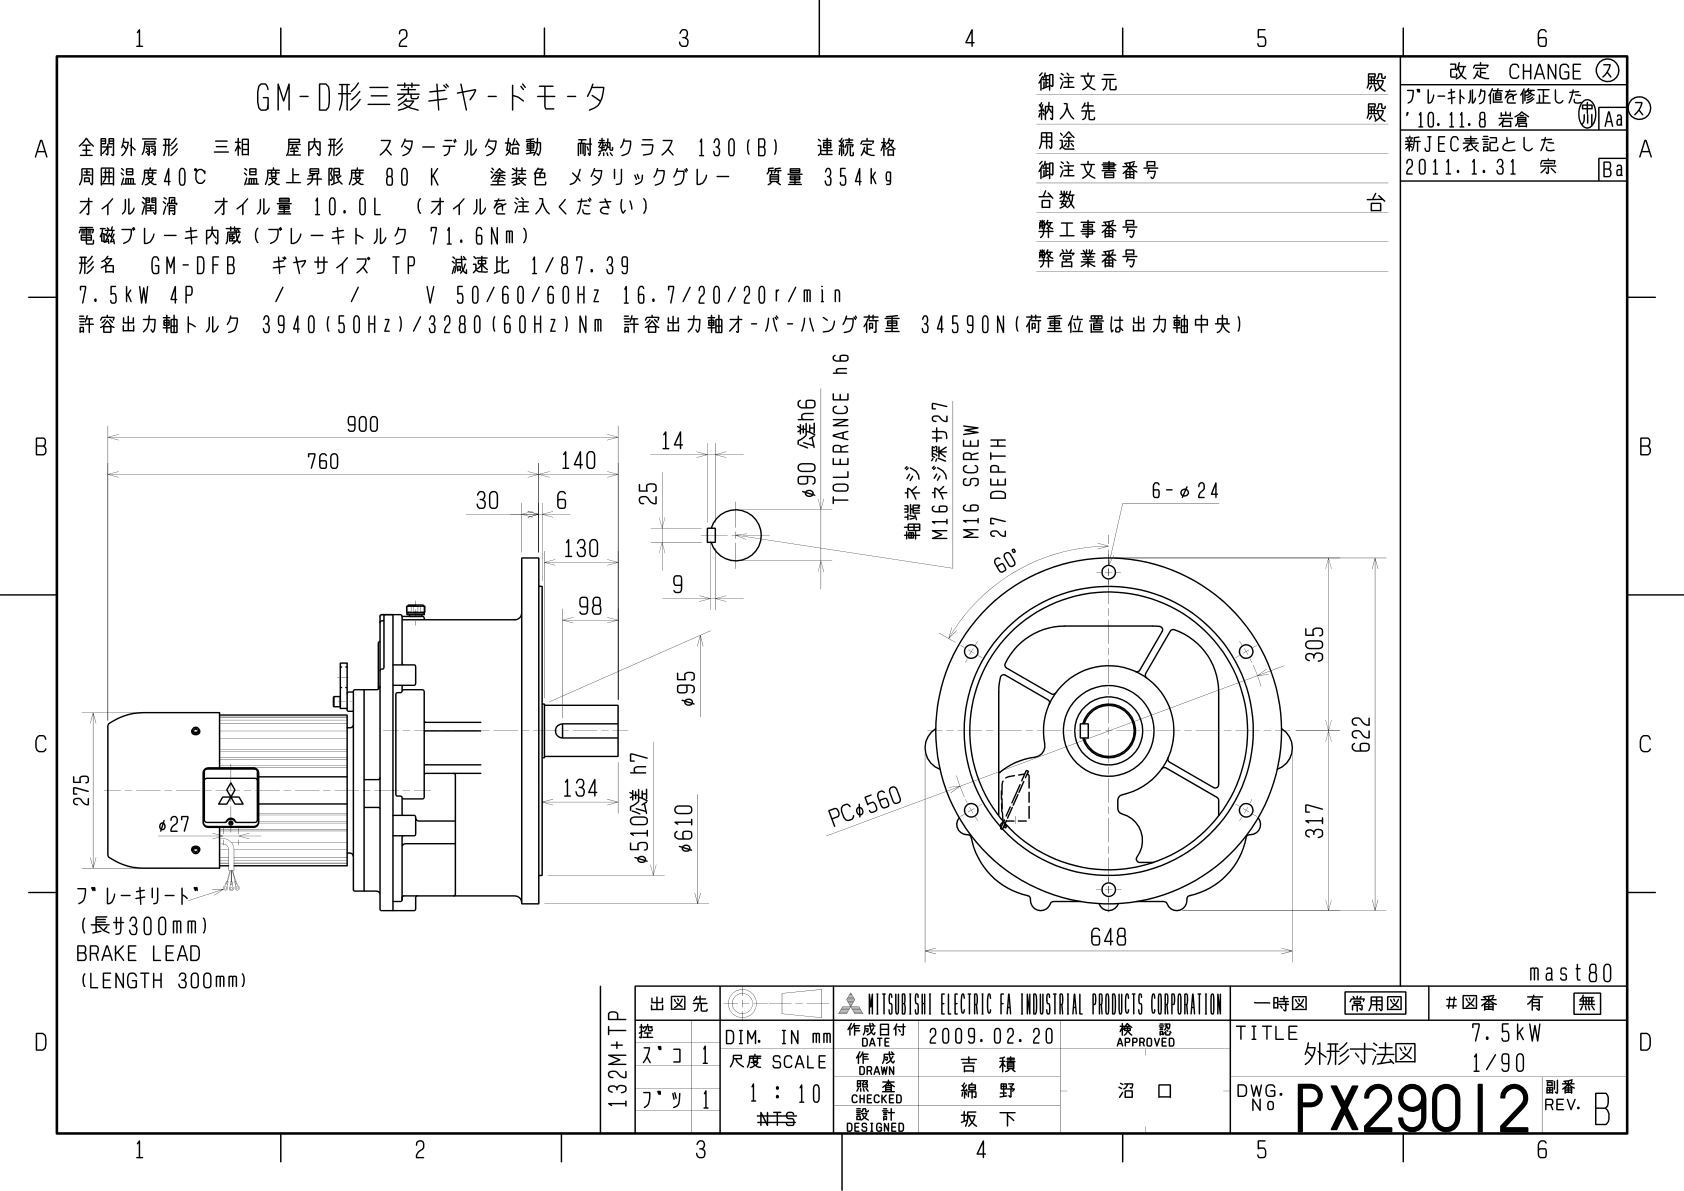GM_D_屋内＿三相_フランジ: (67, 345, 1393, 982)
